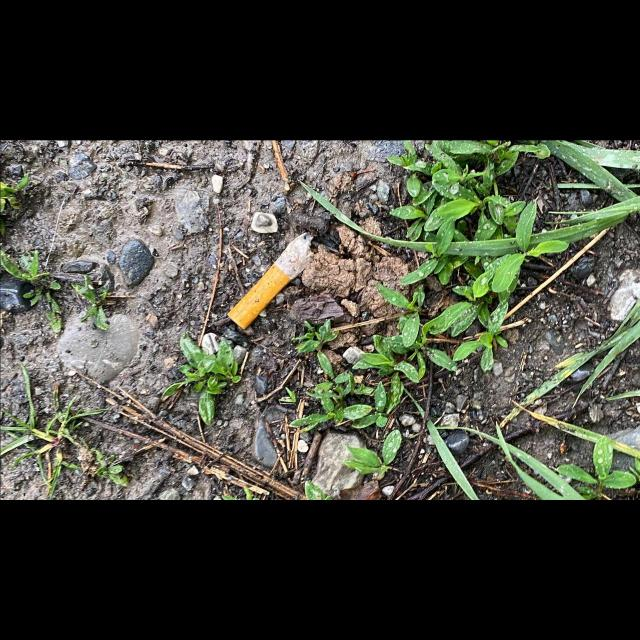cigarette: (226, 231, 315, 331)
